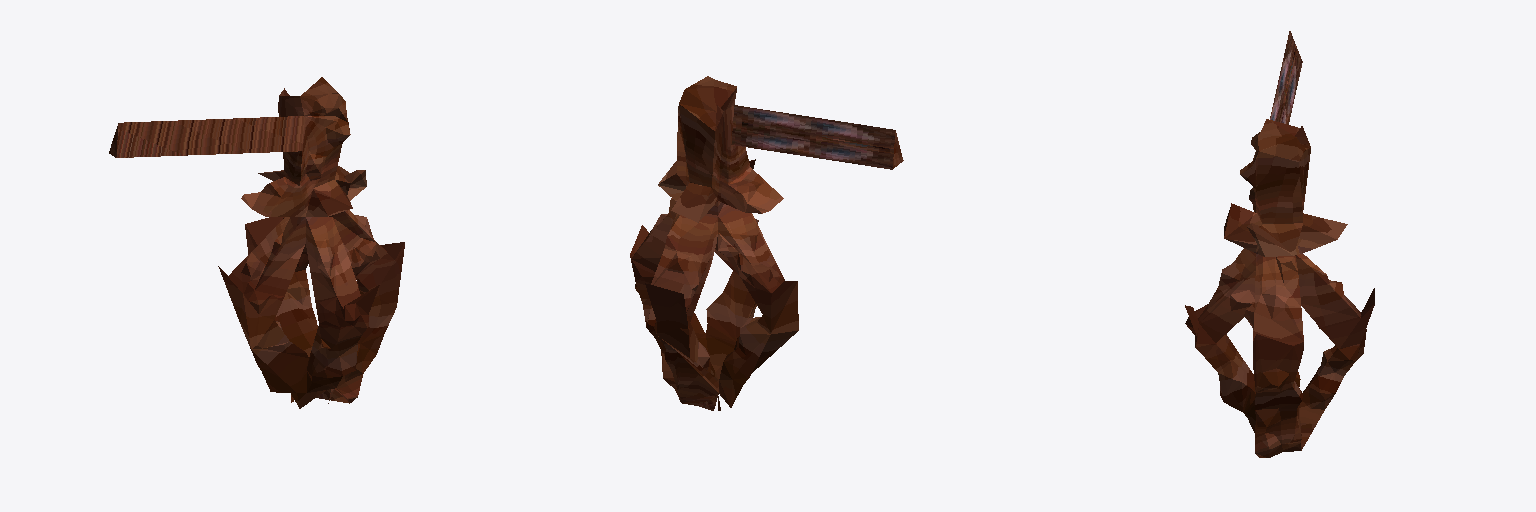
3 renders of one model, left to right at view 1: azimuth 30°, elevation 25°; view 2: azimuth 150°, elevation 25°; view 3: azimuth 270°, elevation 25°, orthographic.
Visible parts, largest first — view 1: Plane; view 2: Plane; view 3: Plane.
Boxes of the visible parts, <box> form: Plane: <box>109,77,404,408</box>; Plane: <box>630,76,903,410</box>; Plane: <box>1185,31,1374,457</box>.
Size of the model in its own units: 1.51 by 1.7 by 0.9093.
1 materials, 1 textured.